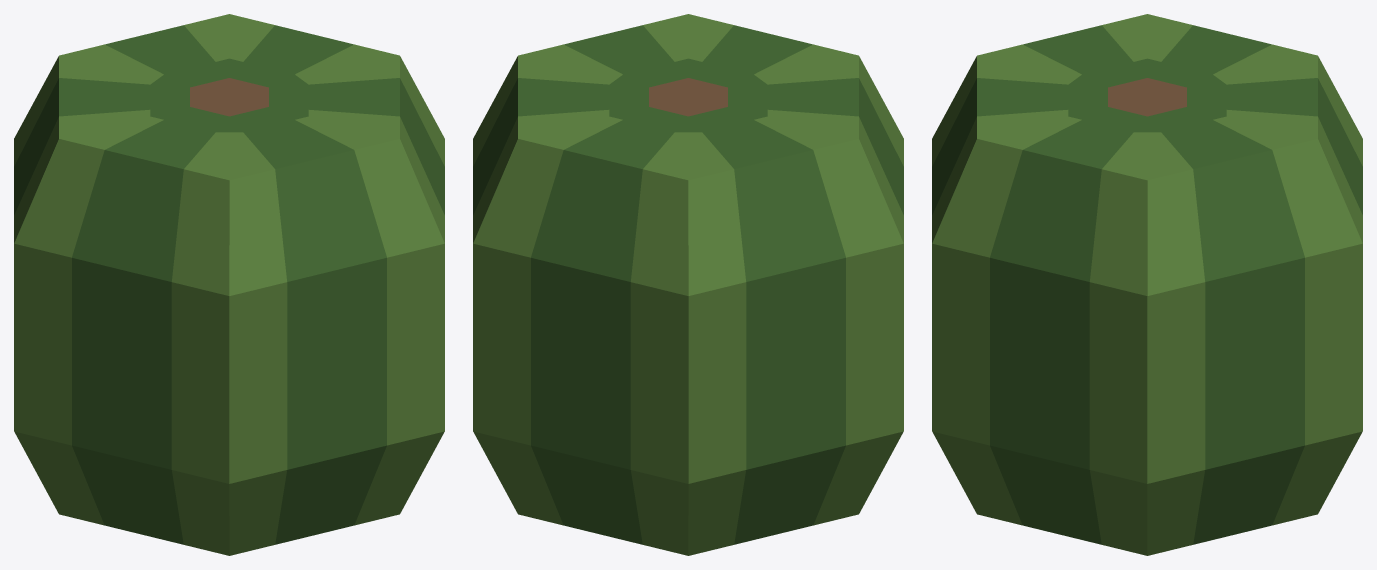
The model's file is dua.glb.
3 renders of one model, left to right at view 1: azimuth 30°, elevation 25°; view 2: azimuth 150°, elevation 25°; view 3: azimuth 270°, elevation 25°, orthographic.
Visible parts, largest first — view 1: crop_melon; view 2: crop_melon; view 3: crop_melon.
Boxes of the visible parts, x1,y1,x2,y2 form: crop_melon: (14,14,444,555); crop_melon: (473,14,903,555); crop_melon: (932,14,1362,555).
Bounding box in the file's own units: 0.4176 × 0.348 × 0.3617.
